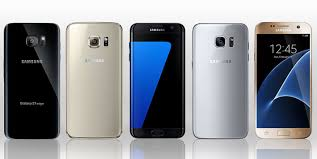samsung: (2, 19, 60, 143), (64, 19, 122, 143), (127, 18, 185, 142), (191, 19, 249, 143), (254, 18, 312, 142)
